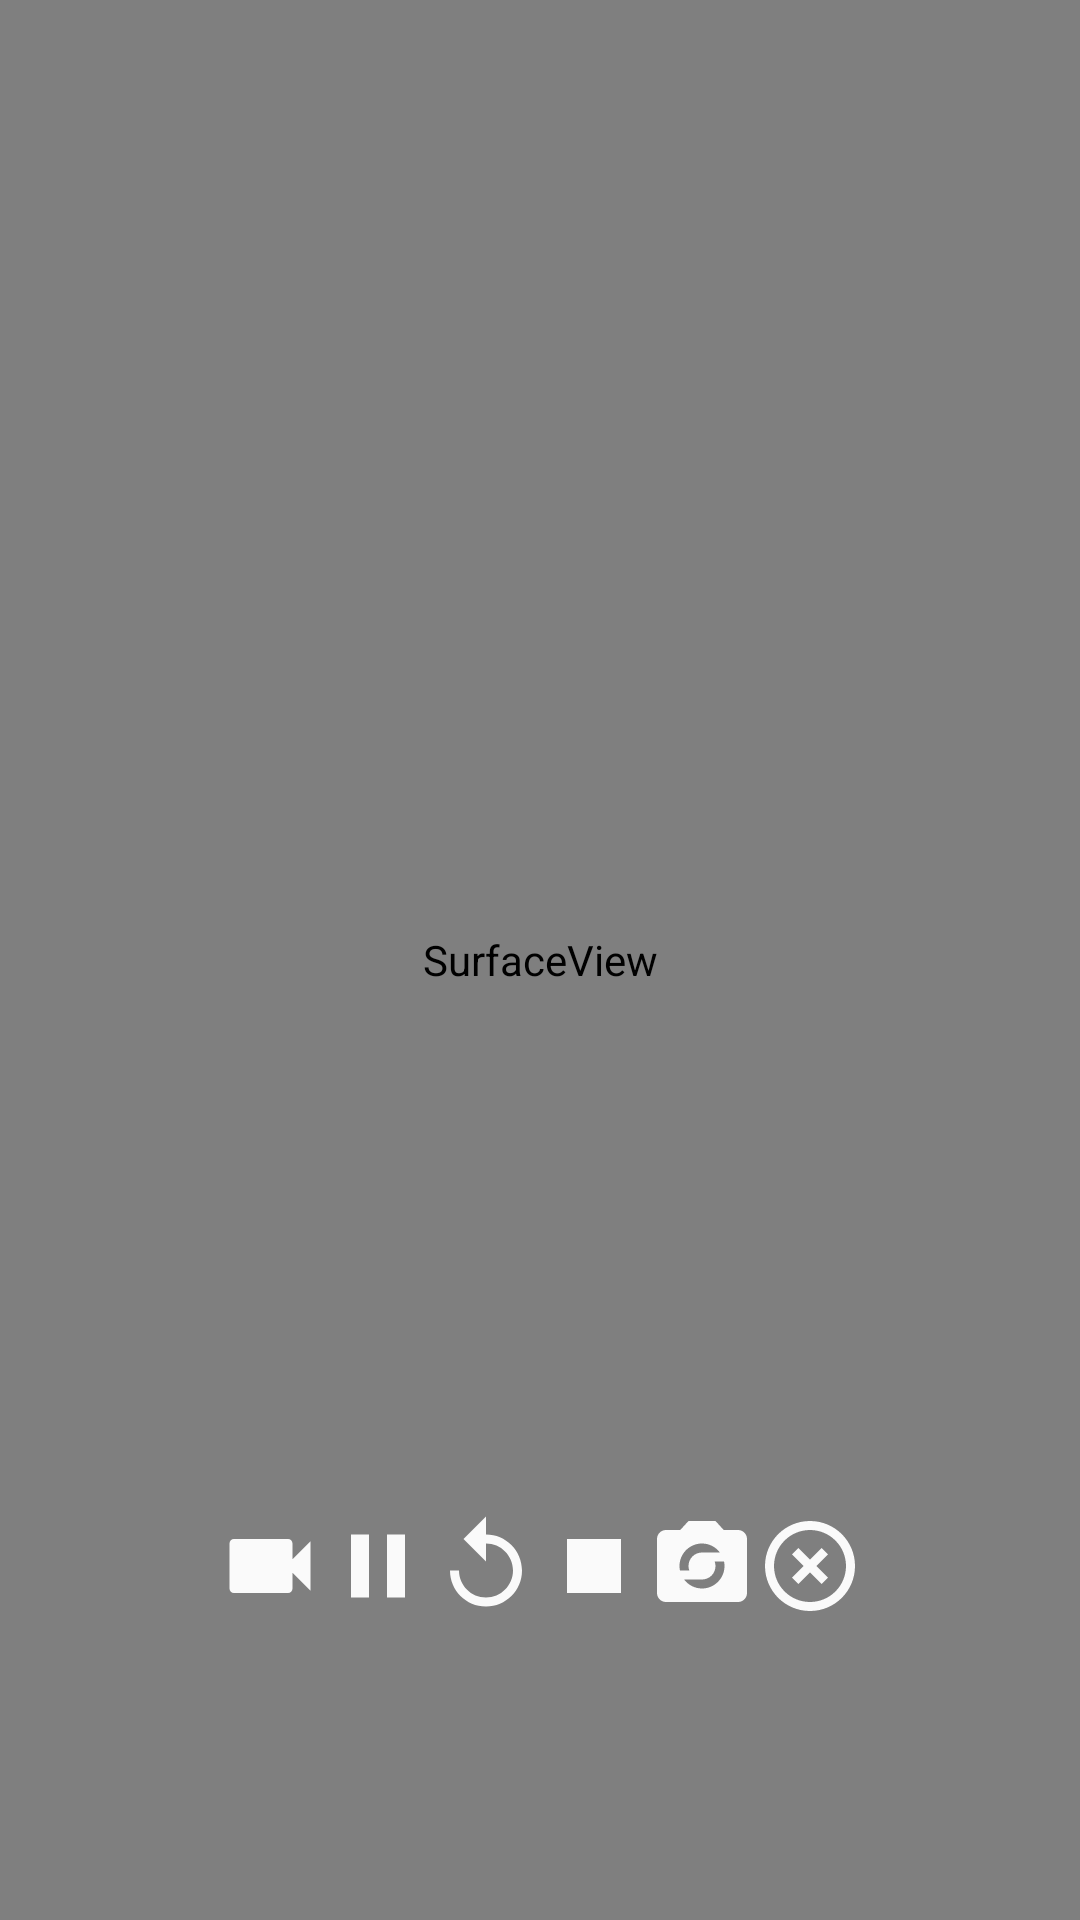

Screen size 1080 x 1920. Icon name, then its center in pixels as (x=x, y=y):
close: (x=810, y=1566)
pause: (x=378, y=1566)
resume: (x=486, y=1562)
start: (x=270, y=1566)
switch camera: (x=702, y=1561)
